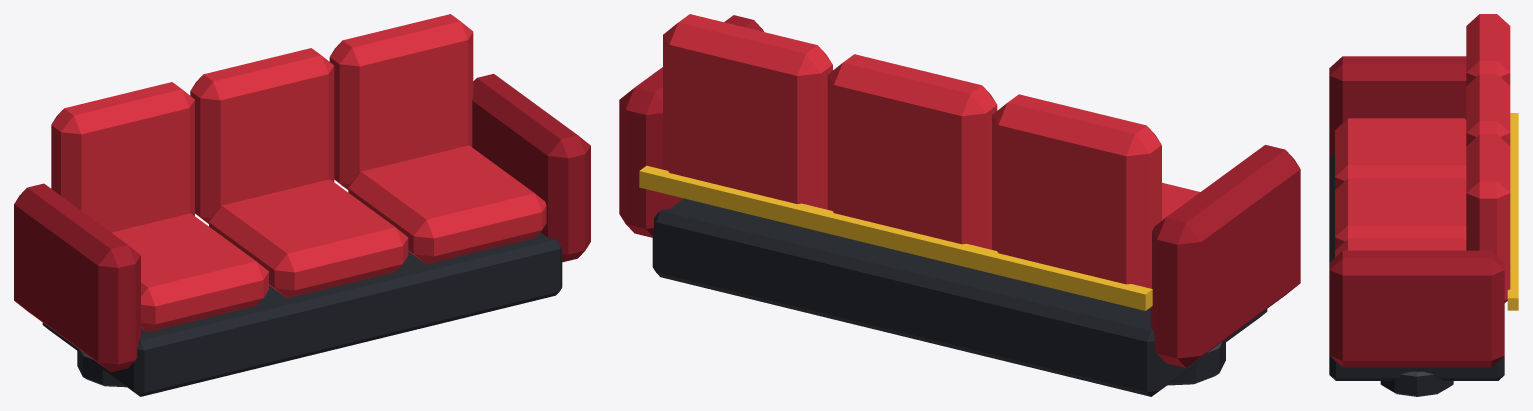
File: Couch.fbx
3 views of the same model, side by side, from view 1: azimuth 30°, elevation 25°; view 2: azimuth 150°, elevation 25°; view 3: azimuth 270°, elevation 25° (orthographic). The views are drawn at different scales.
Parts seen in each view (by area): view 1: Couch; view 2: Couch; view 3: Couch.
Boxes of the visible parts, x1,y1,x2,y2 form: Couch: (14, 14, 590, 396); Couch: (619, 14, 1300, 396); Couch: (1329, 14, 1518, 396).
Bounding box in the file's own units: 9.2 × 4.15 × 3.45.
Materials: 1 (1 with a texture image).
